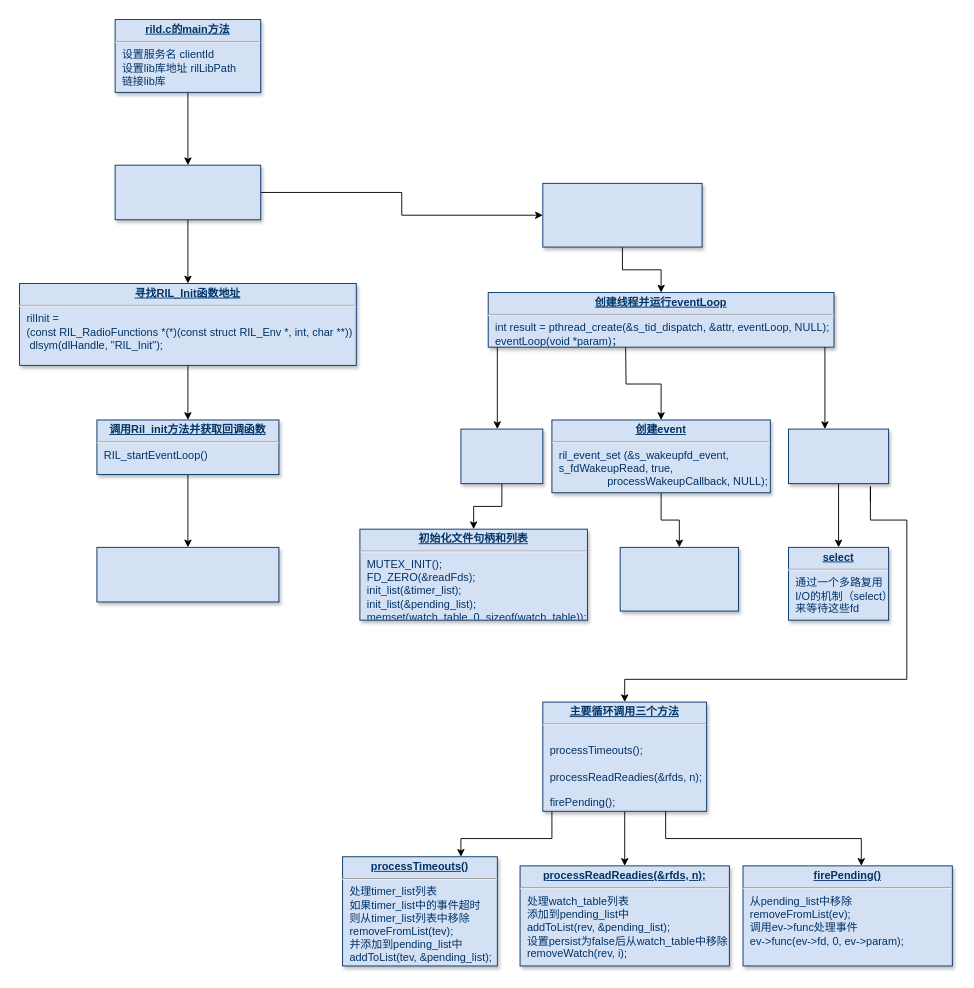
Image size: 974x988. Some labels were removed from this diagram. Each missing label, with the centre of its shape:
eventLoop 位置在/hardware/ril/libril/ril.cpp 使用RIL_startEventLoop(void): the point at 623,216
event初始化 ril_event_init(): the point at 502,457
加入到队列中唤醒 rilEventAddWakeup (&s_wakeupfd_event);: the point at 680,580
开启event_loop循环 RIL_startEventLoop(): the point at 188,193
开启event循环 ril_event_loop();: the point at 839,457
注册得到的reference的回调函数 RIL_register(funcs): the point at 188,575
